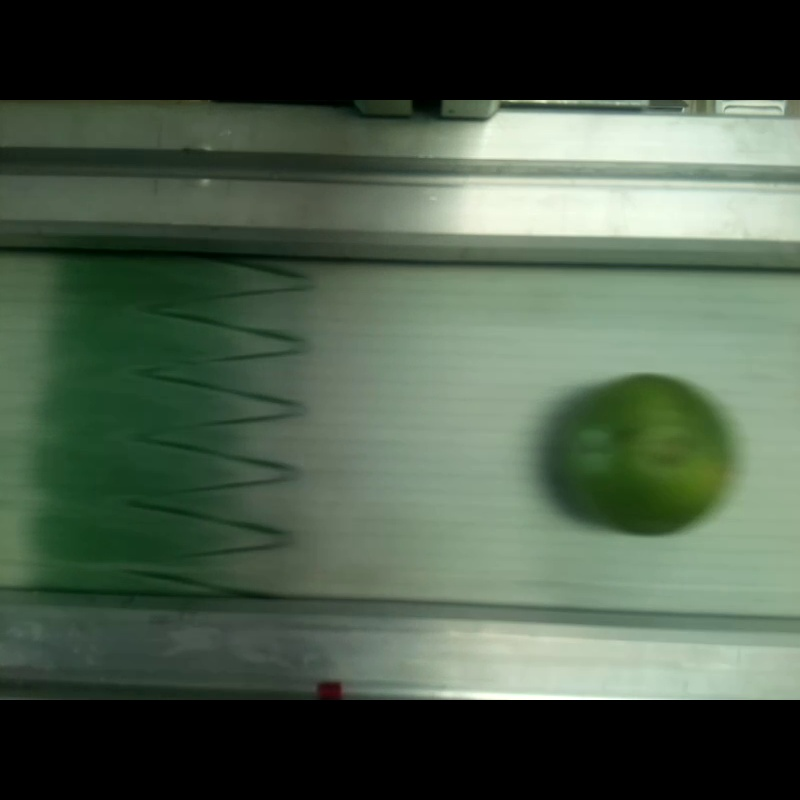lime: (561, 375, 735, 533)
